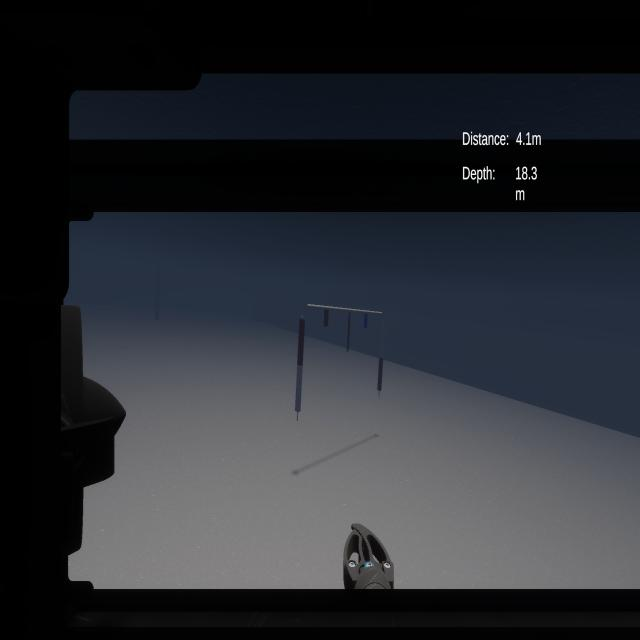Depth: (459, 162, 542, 208)
Distance: (458, 121, 546, 152)
Gate: (283, 290, 408, 438)
